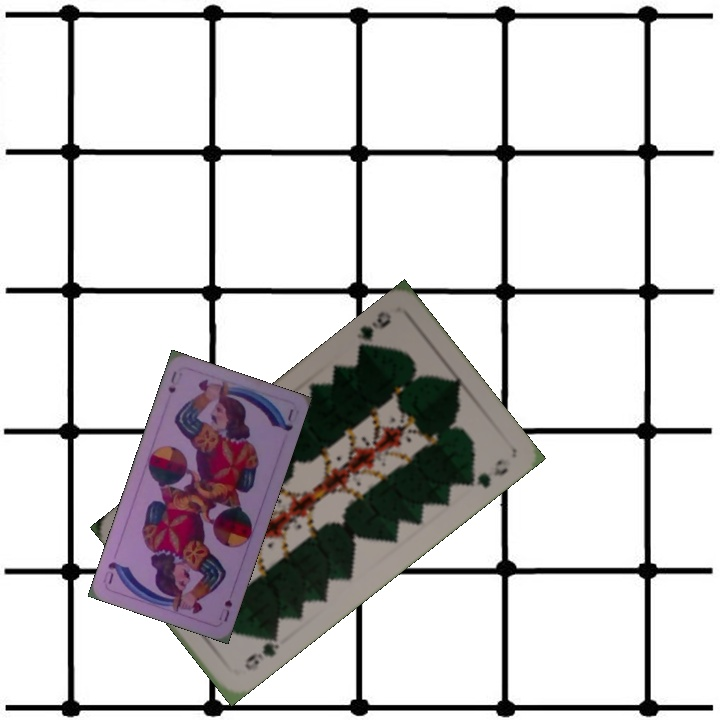G9: (353, 307, 394, 357), (240, 628, 282, 673)
SU: (164, 367, 185, 396), (214, 596, 235, 624)
